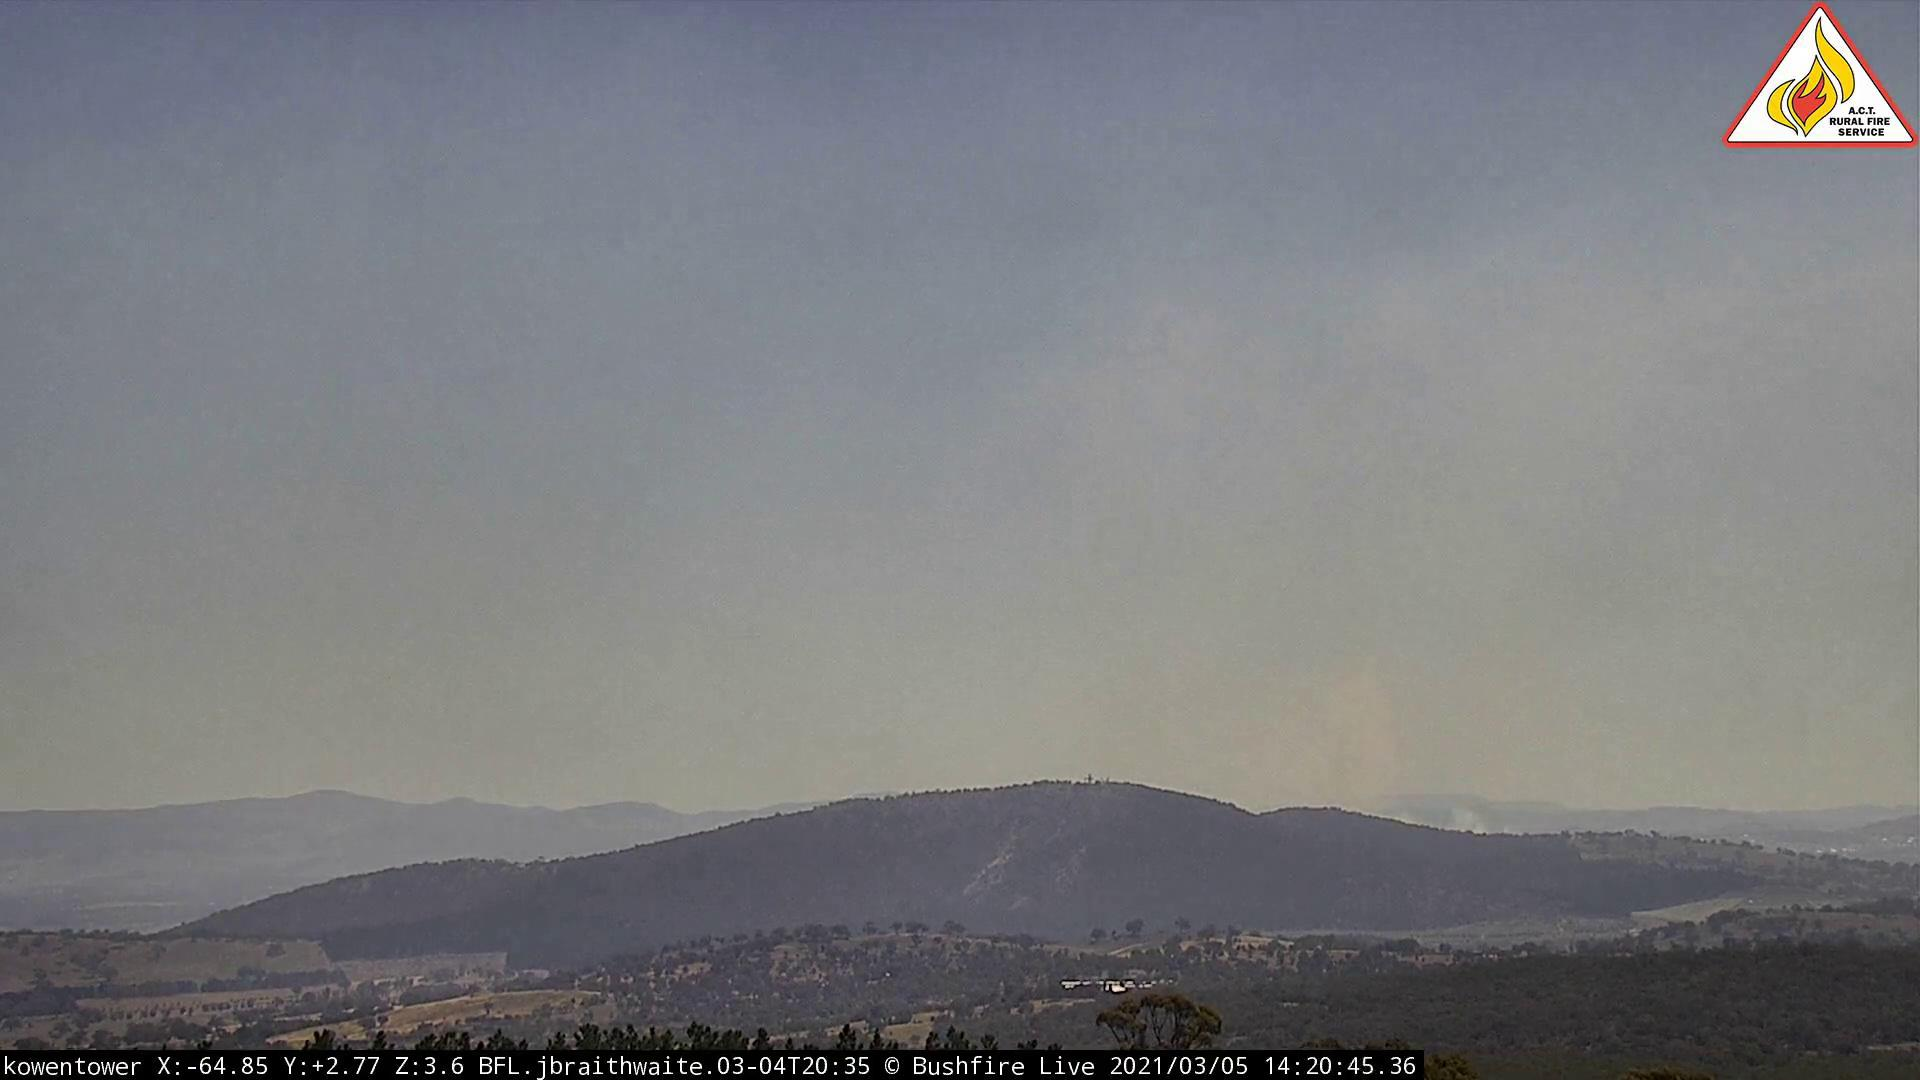Smoke: (1192, 630, 1549, 844)
